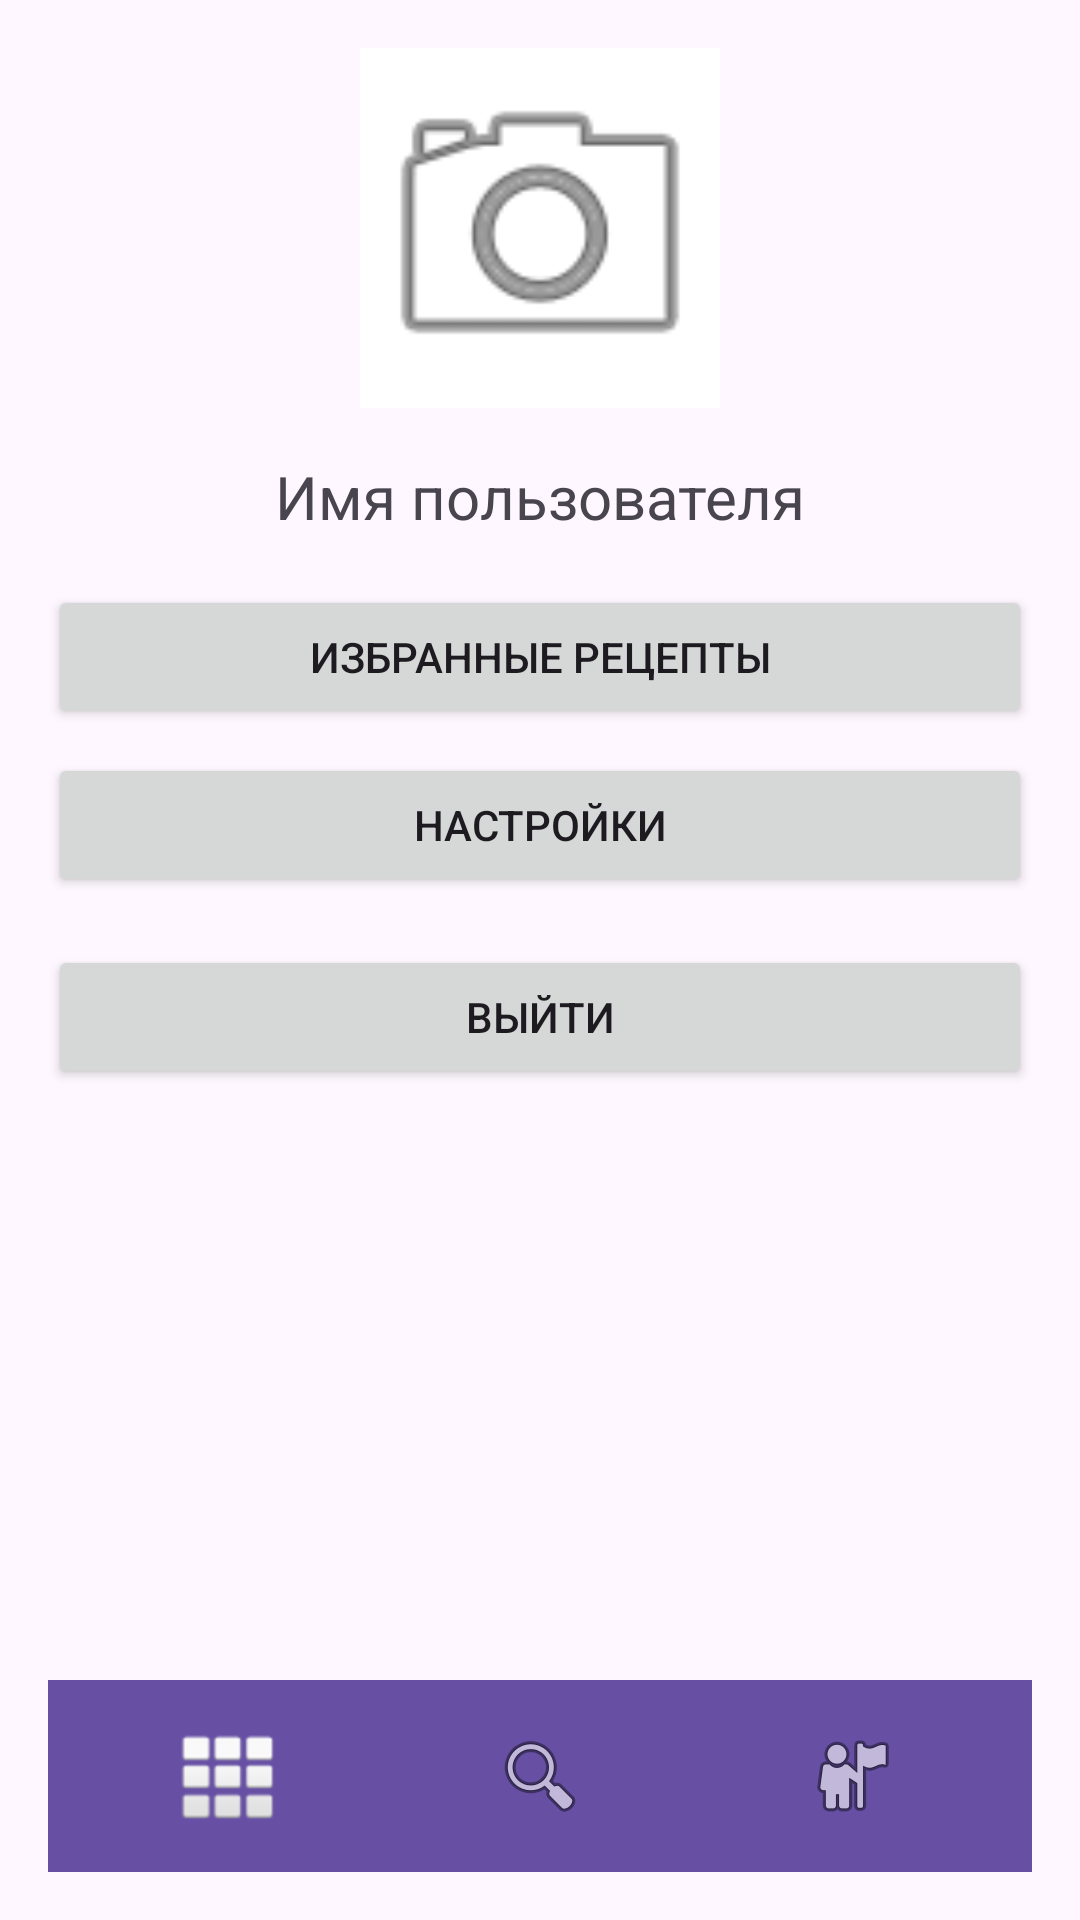

Icons on this 1080x1920 Android screen, each with the point to tap as point (x, y):
Главная: point (227, 1777)
Поиск: point (540, 1776)
Профиль: point (853, 1776)
